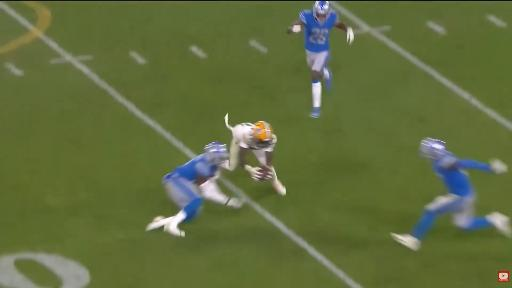Helmet: (204, 142, 229, 165), (252, 121, 273, 148), (420, 138, 446, 159), (253, 121, 272, 141), (313, 1, 331, 22)
Jersey: (432, 153, 488, 197), (300, 10, 338, 52), (164, 155, 218, 181), (232, 123, 277, 151)
Player: (392, 138, 511, 250), (146, 142, 242, 236), (287, 1, 354, 118), (223, 114, 286, 195)
